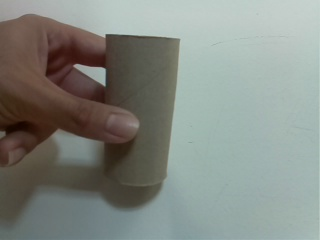rollo papel: (99, 31, 186, 191)
